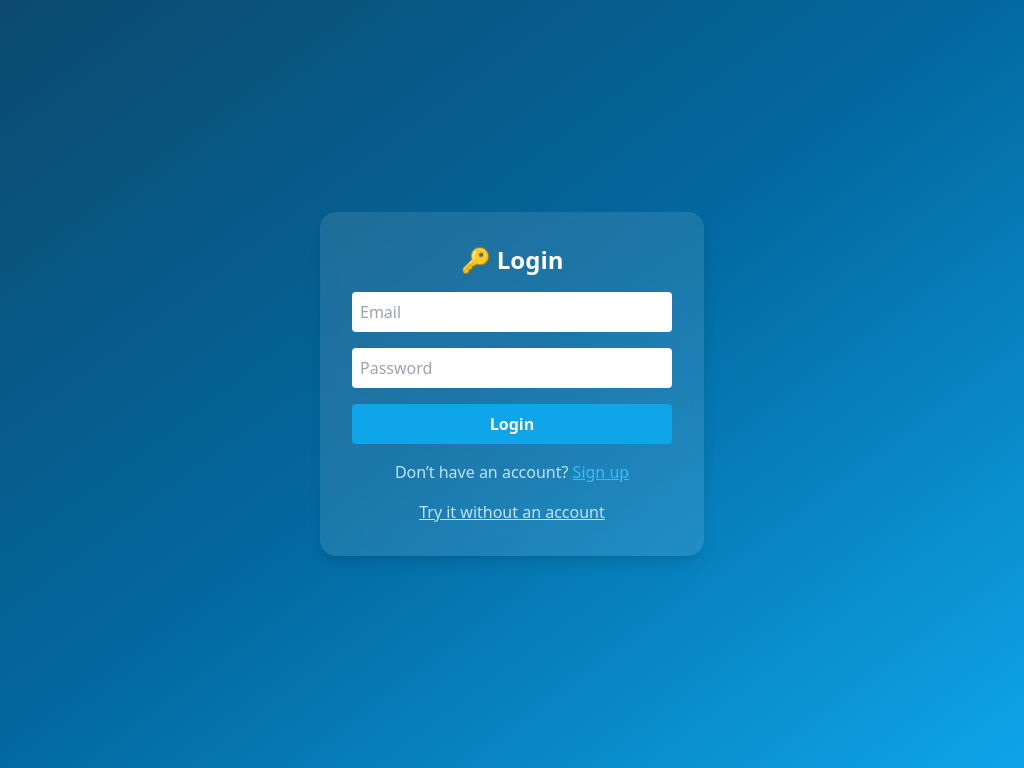
Scenario: Login page › shows why signing up failed
Type "me@example.com" into the field with placeholder "Email" at (512, 312), box [352,292,672,332]
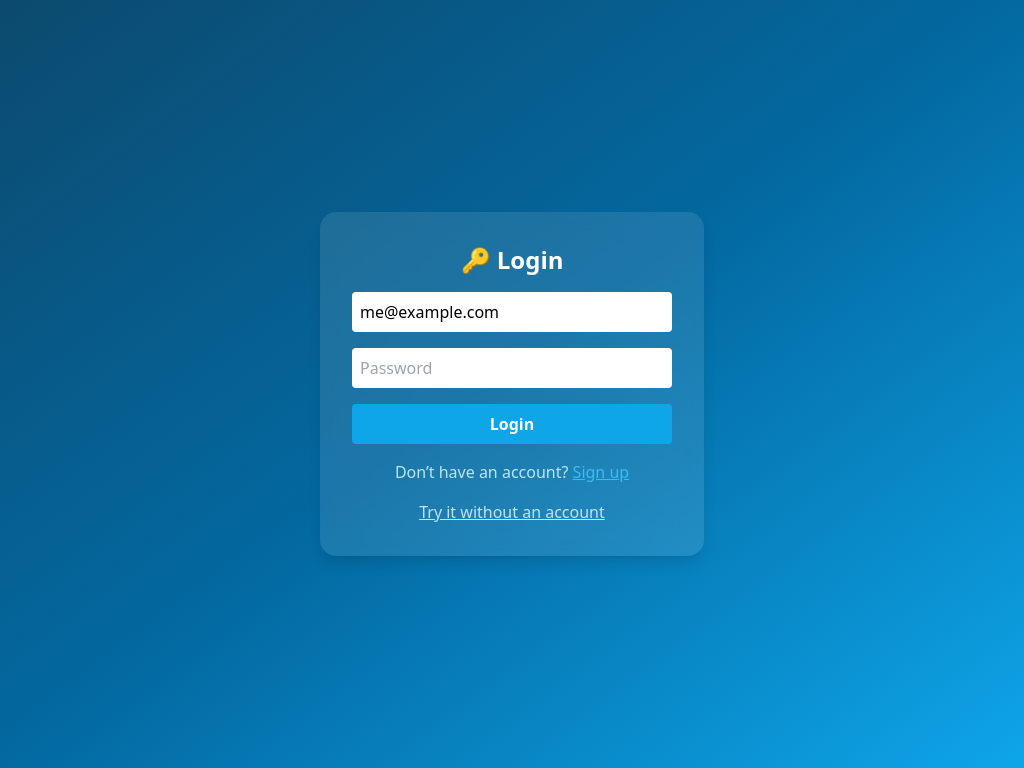
Type "hunter22" into the password field with placeholder "Password" at (512, 368), box [352,348,672,388]
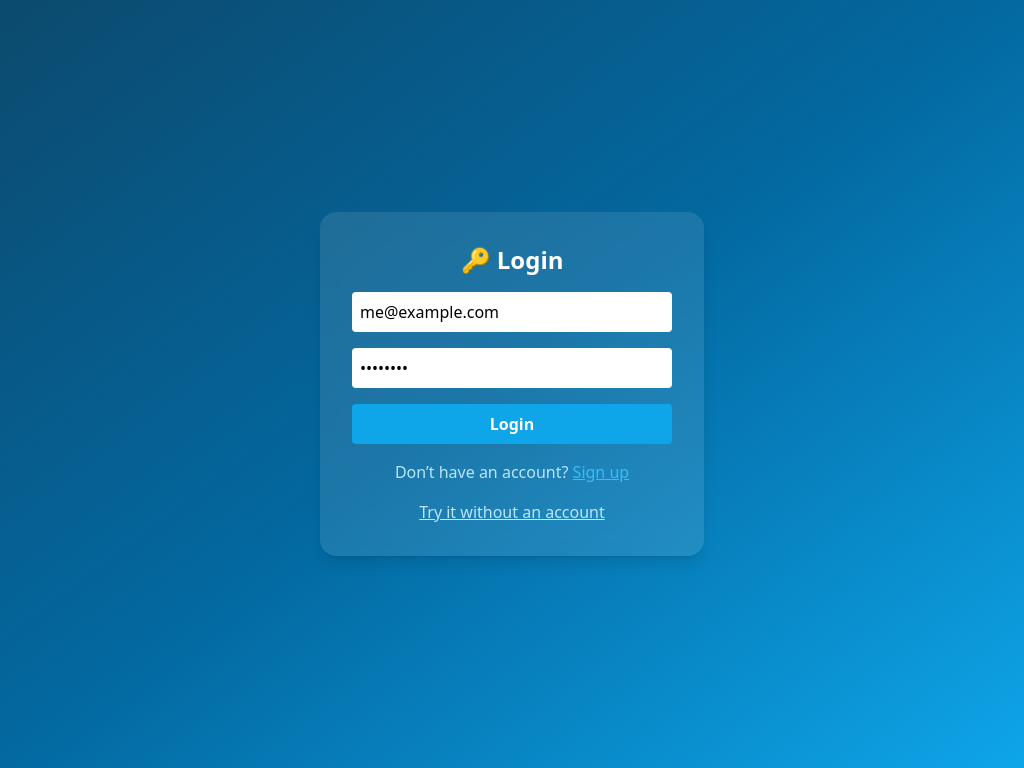
Click the button "Sign up" at (601, 472), box [573,460,629,484]
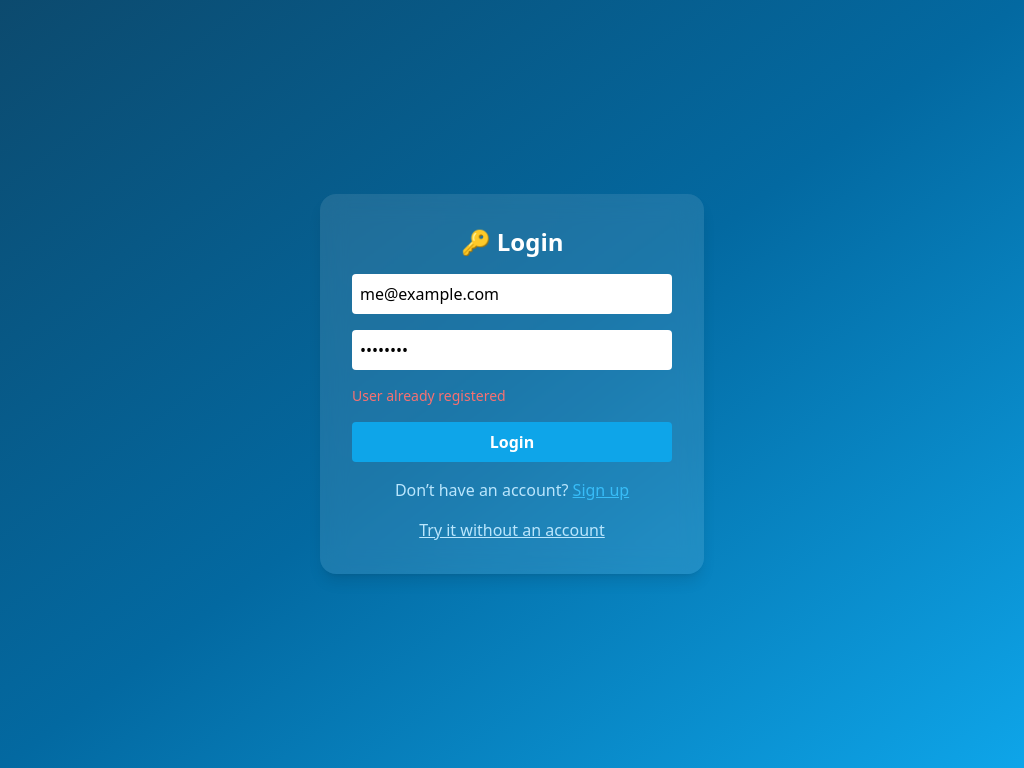
Check: the text "User already registered" is shown, box [352,386,506,405]
